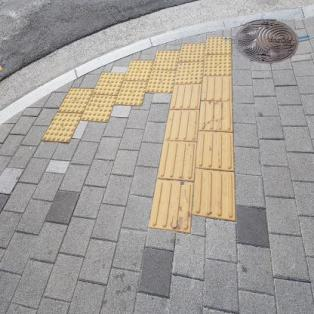Podoctatil: (38, 33, 238, 237)
